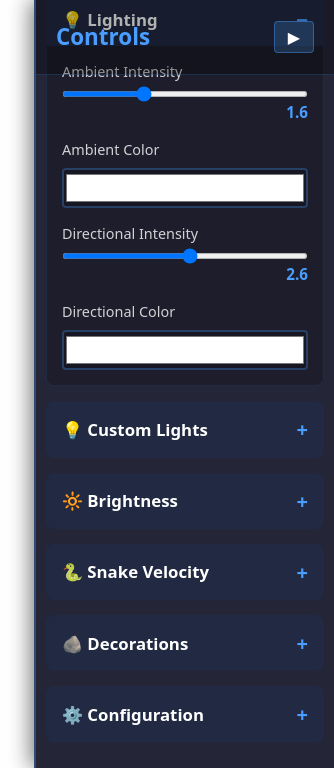
ControlPanel › Custom Lights Section › should show light controls when section is expanded
The width and height of the screenshot is (334, 768).
(page scrolled)
Click to expand the Custom Lights section
Click the text "💡 Custom Lights" at (135, 430), box [62, 417, 208, 442]
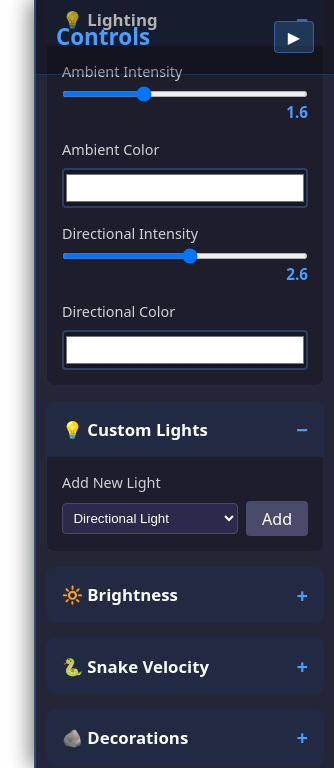
Now the text "Add New Light" is shown, box [62, 473, 161, 492]
Now the dropdown is shown, box [62, 503, 238, 534]
Now the button "Add" is shown, box [246, 501, 308, 536]
